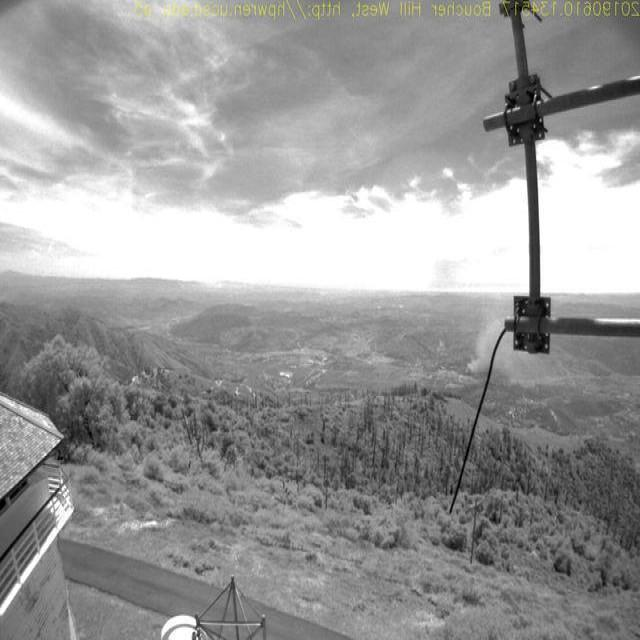Smoke: (465, 314, 506, 382)
